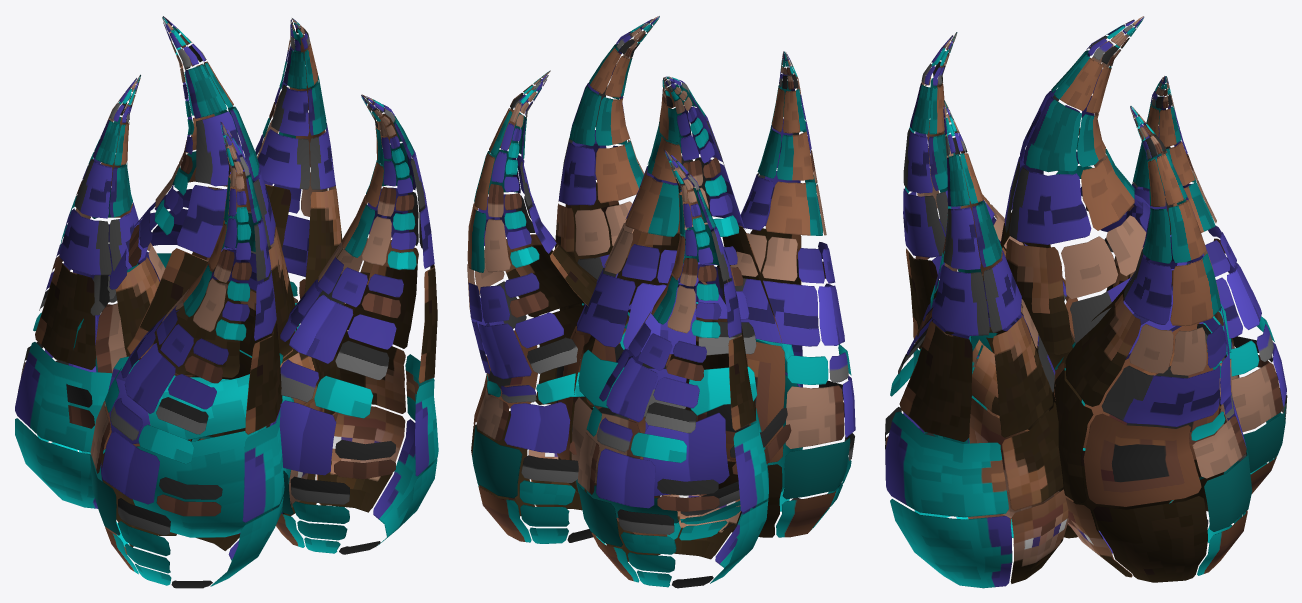
3 views of the same model, side by side, from view 1: azimuth 30°, elevation 25°; view 2: azimuth 150°, elevation 25°; view 3: azimuth 270°, elevation 25° (orthographic). The views are drawn at different scales.
Parts seen in each view (by area): view 1: flame_NurbsPath.015; view 2: flame_NurbsPath.015; view 3: flame_NurbsPath.015.
Boxes of the visible parts, <box> form: flame_NurbsPath.015: <box>15,16,438,588</box>; flame_NurbsPath.015: <box>467,16,855,588</box>; flame_NurbsPath.015: <box>885,16,1287,588</box>.
Bounding box in the file's own units: 0.7407 × 1.15 × 0.8114.
